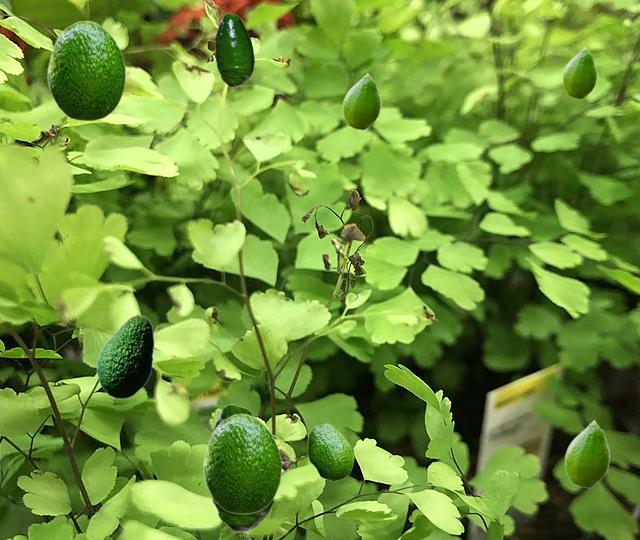avocado: (211, 404, 274, 531), (47, 20, 125, 120), (203, 413, 281, 513), (96, 314, 153, 398), (564, 419, 609, 487), (215, 13, 253, 86), (307, 423, 352, 480), (342, 72, 380, 129), (562, 46, 596, 98)
